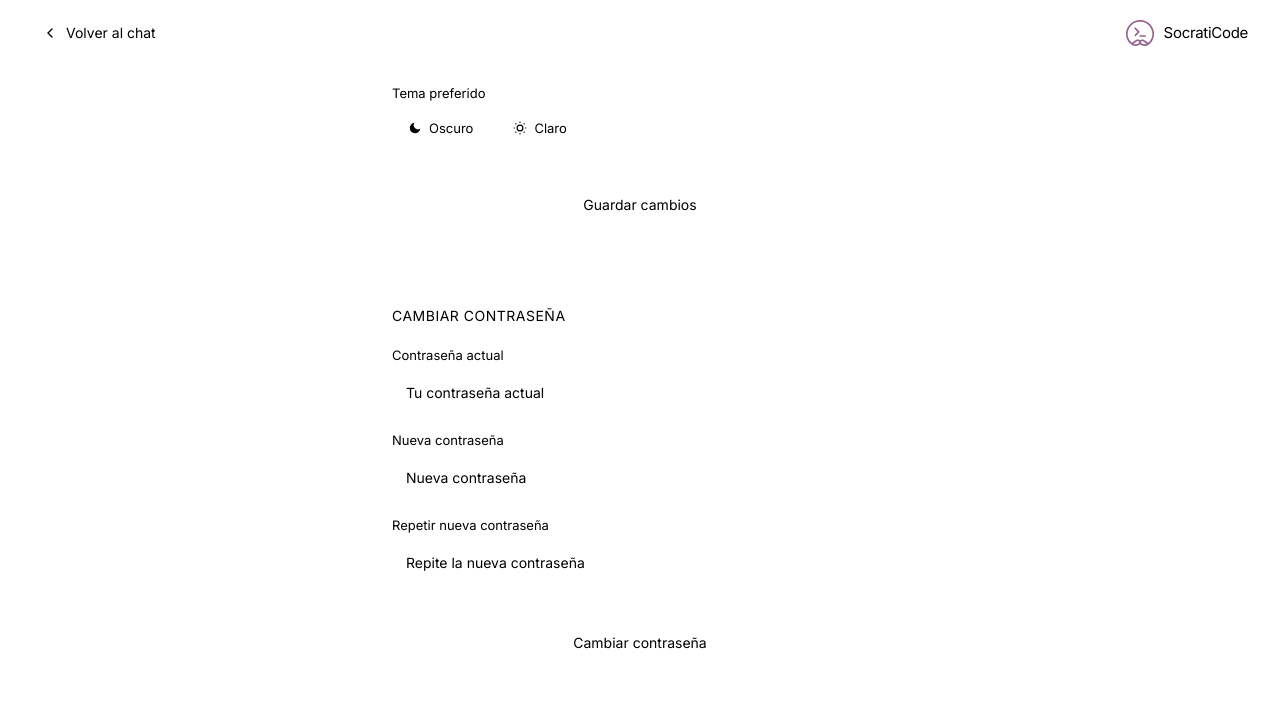
Test: ProfileView — handleChangePassword › shows passSuccess feedback after successful change
(page scrolled)
Type "old" into the password field with id "current-password" at [640, 393], box 392,372 -> 888,414
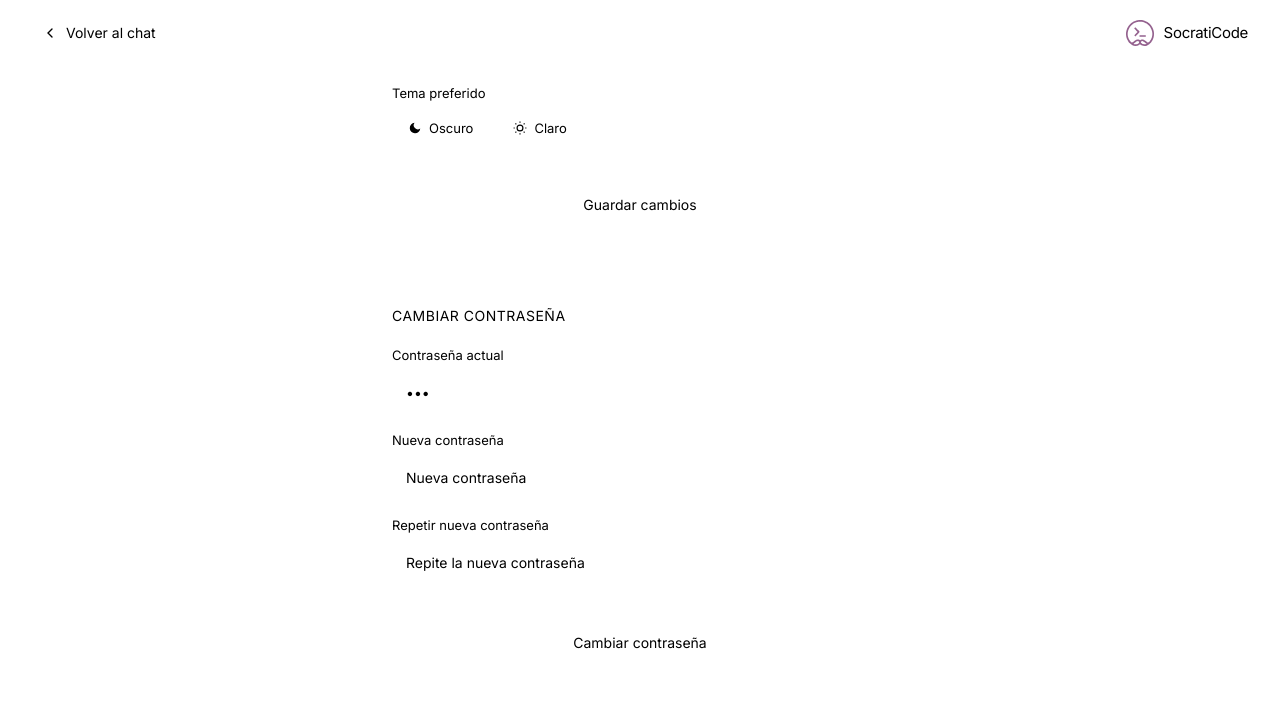
Type "newpass" into the password field with id "new-password" at [640, 478], box 392,457 -> 888,500
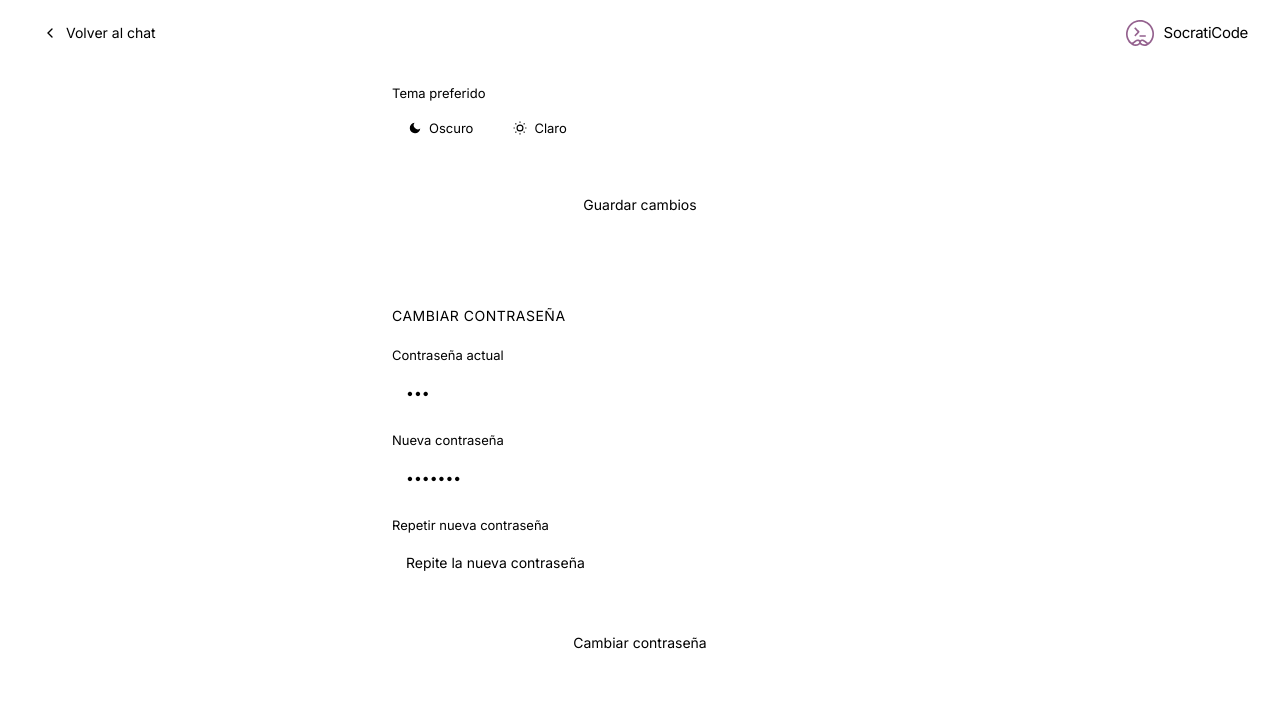
Type "newpass" into the password field with id "new-password-confirm" at [640, 564], box 392,542 -> 888,585
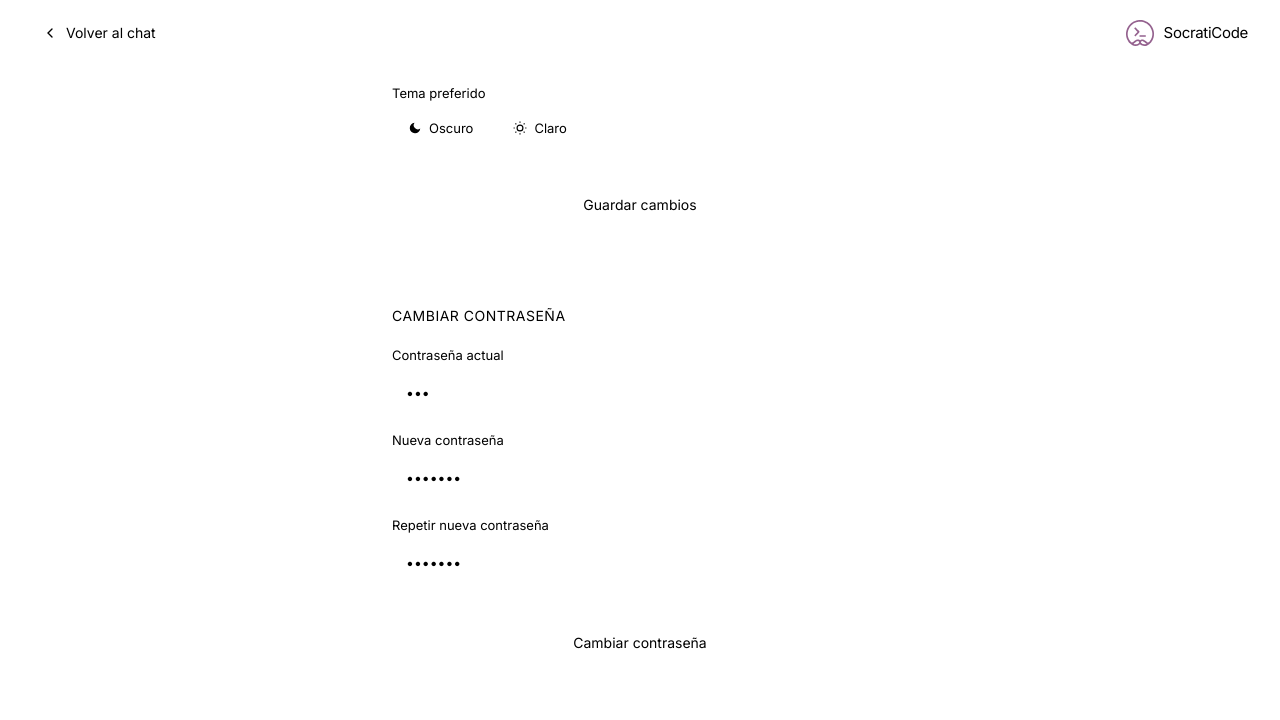
Submit the form, box 392,345 -> 888,665
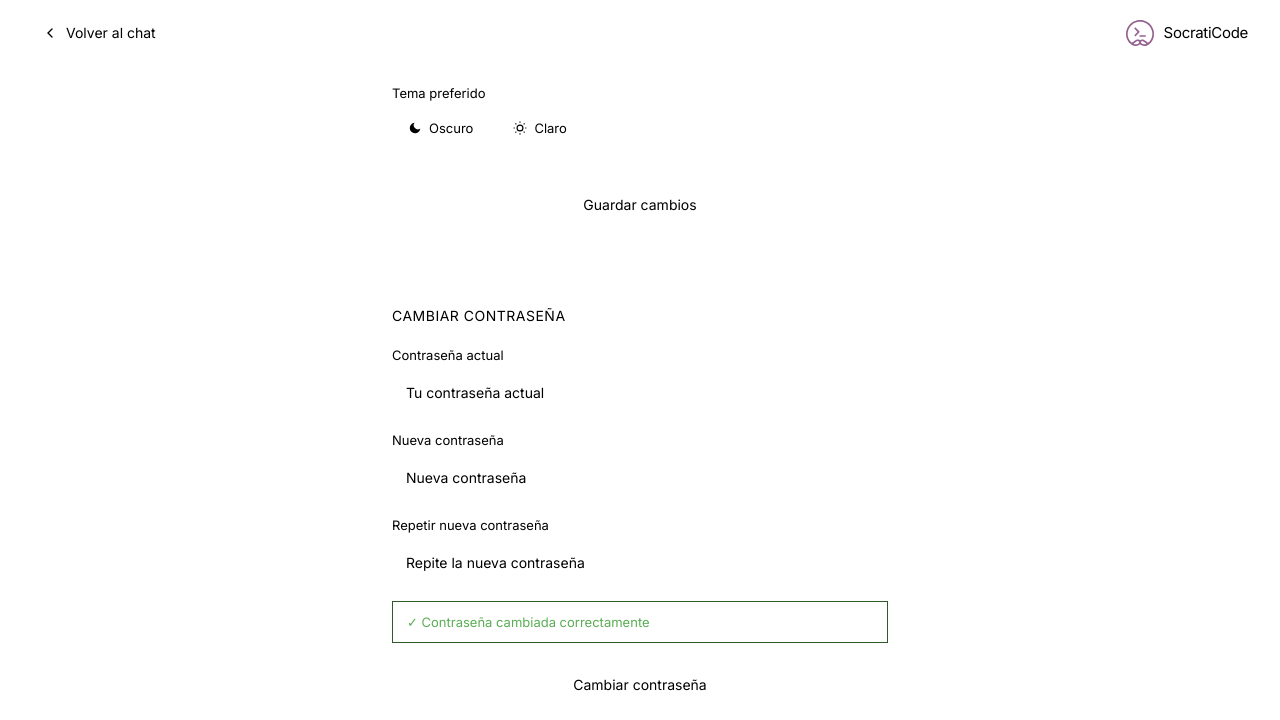
Result: the text "✓ Contraseña cambiada correctamente" is shown at 392,601 -> 888,644
